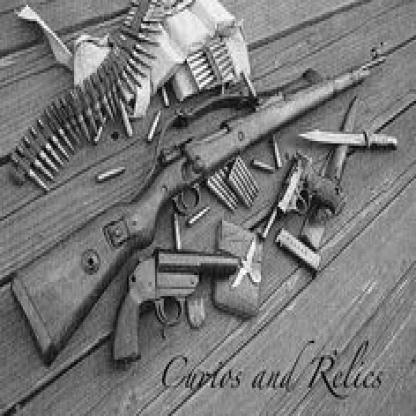Gun: (11, 46, 389, 371)
Knife: (297, 96, 399, 251)
Pistol: (110, 243, 240, 367), (260, 150, 348, 242)
